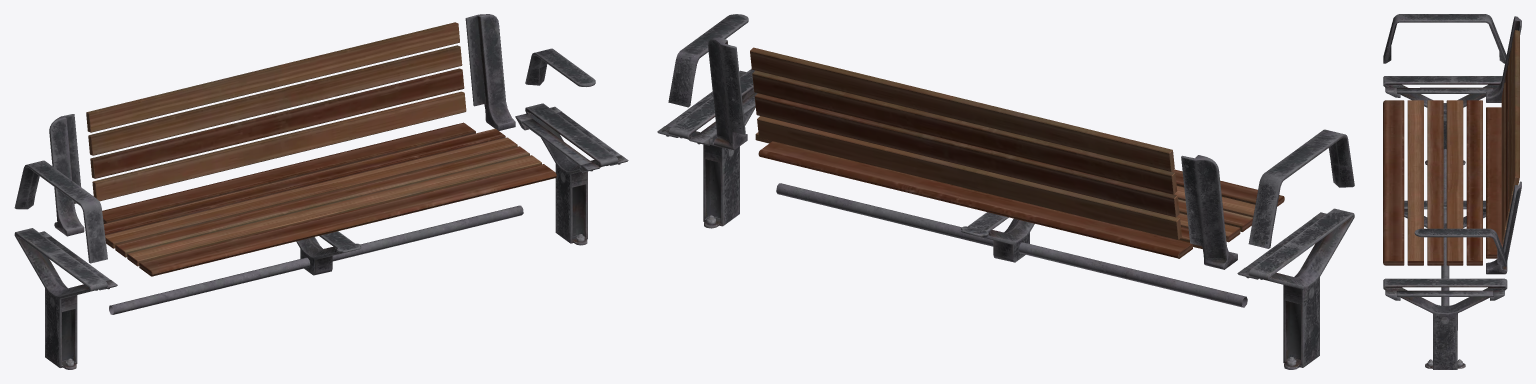
The model's file is bench.glb.
3 renders of one model, left to right at view 1: azimuth 30°, elevation 25°; view 2: azimuth 150°, elevation 25°; view 3: azimuth 270°, elevation 25°, orthographic. The views are drawn at different scales.
Visible parts, largest first — view 1: bench; view 2: bench; view 3: bench.
Part boxes in pixels (<box>): bench: <box>14,14,628,369</box>; bench: <box>657,14,1354,369</box>; bench: <box>1383,14,1521,369</box>.
Bounding box in the file's own units: 2.45 × 0.867 × 0.6712.
3 materials, 3 textured.
